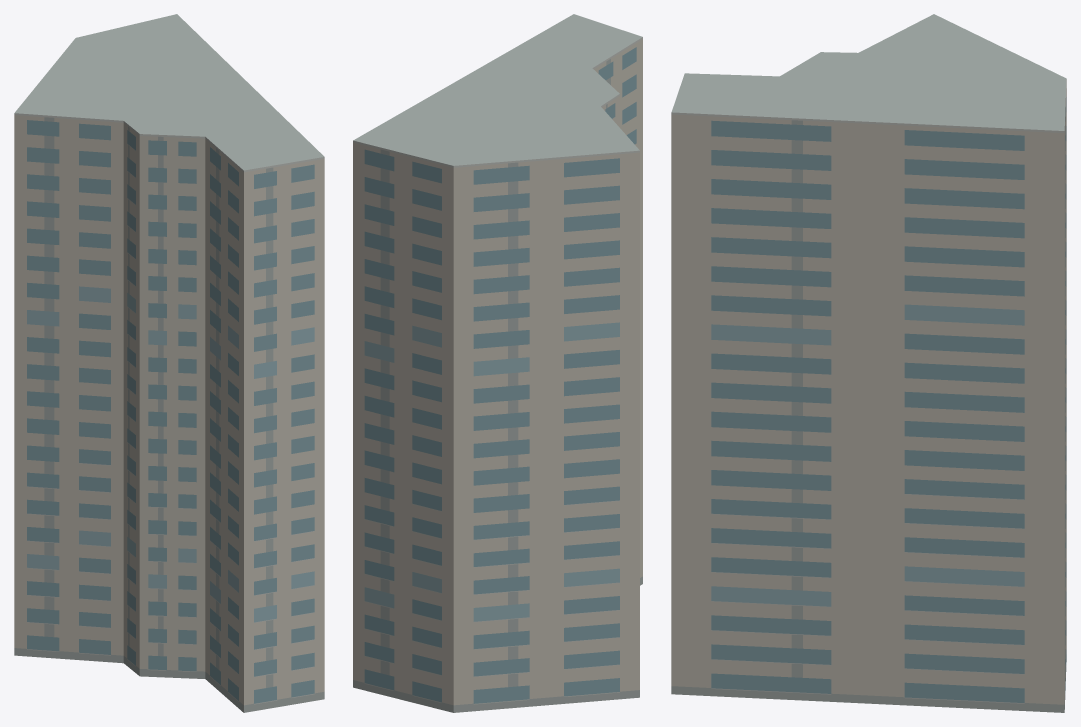
Rendered from residential-9ae72812-2f14-41e8-baac-d554a1e7bb1b.glb.
The picture shows the model from 3 angles, left to right: view 1: azimuth 30°, elevation 25°; view 2: azimuth 150°, elevation 25°; view 3: azimuth 270°, elevation 25°; orthographic projection. The views are drawn at different scales.
Visible parts, largest first — view 1: residential-9ae72812-2f14-41e8-baac-d554a1e7bb1b.tmp; view 2: residential-9ae72812-2f14-41e8-baac-d554a1e7bb1b.tmp; view 3: residential-9ae72812-2f14-41e8-baac-d554a1e7bb1b.tmp.
Part boxes in pixels (bbox=[...]): residential-9ae72812-2f14-41e8-baac-d554a1e7bb1b.tmp: bbox=[14, 14, 324, 712]; residential-9ae72812-2f14-41e8-baac-d554a1e7bb1b.tmp: bbox=[353, 14, 642, 712]; residential-9ae72812-2f14-41e8-baac-d554a1e7bb1b.tmp: bbox=[671, 14, 1066, 712].
Size of the model in its own units: 29.79 by 69 by 42.47.
